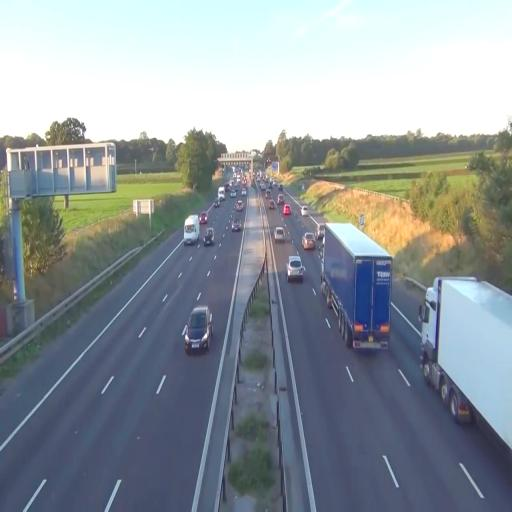vehicle: (419, 275, 512, 462), (321, 219, 393, 351), (183, 305, 213, 354), (286, 255, 306, 283), (184, 214, 200, 244), (272, 225, 290, 243), (302, 233, 316, 251)
